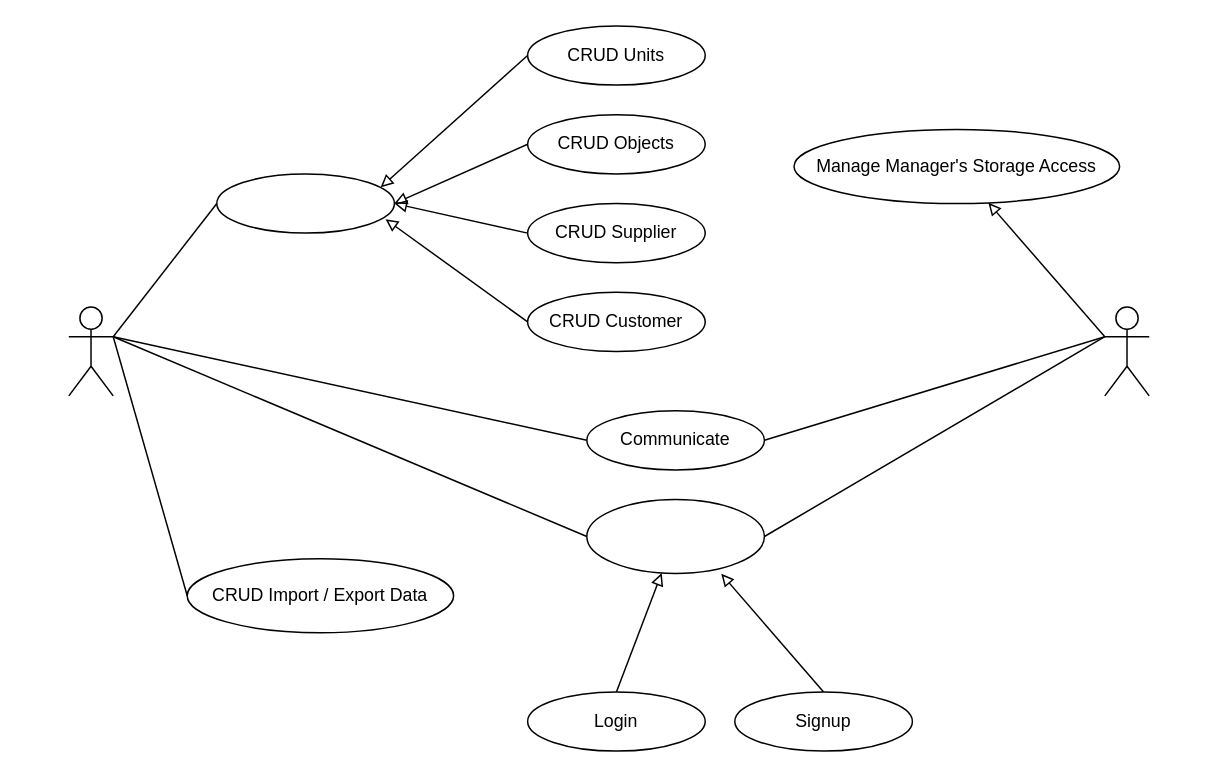
The diagram is 1208 pixels wide and 777 high, and some of its shapes have lost their labels. Each missing label, with the centre of its shape:
Authentication: point 674,536
Manage Storage: point 304,202
StorageManager: point 90,351
SystemAdmin: point 1126,351
